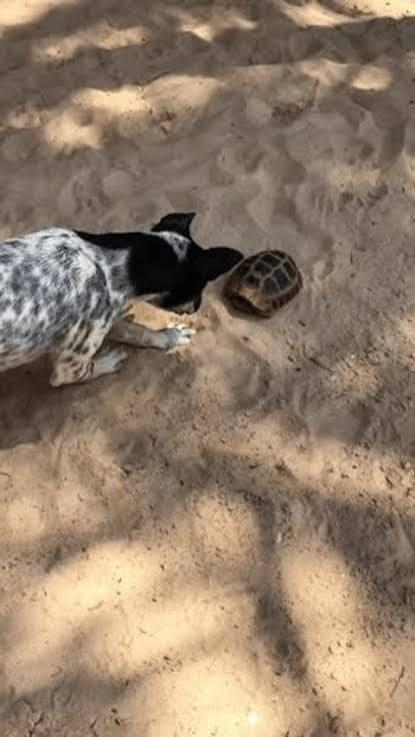adult_dog: (0, 211, 245, 387)
non-dog: (217, 248, 304, 320)
